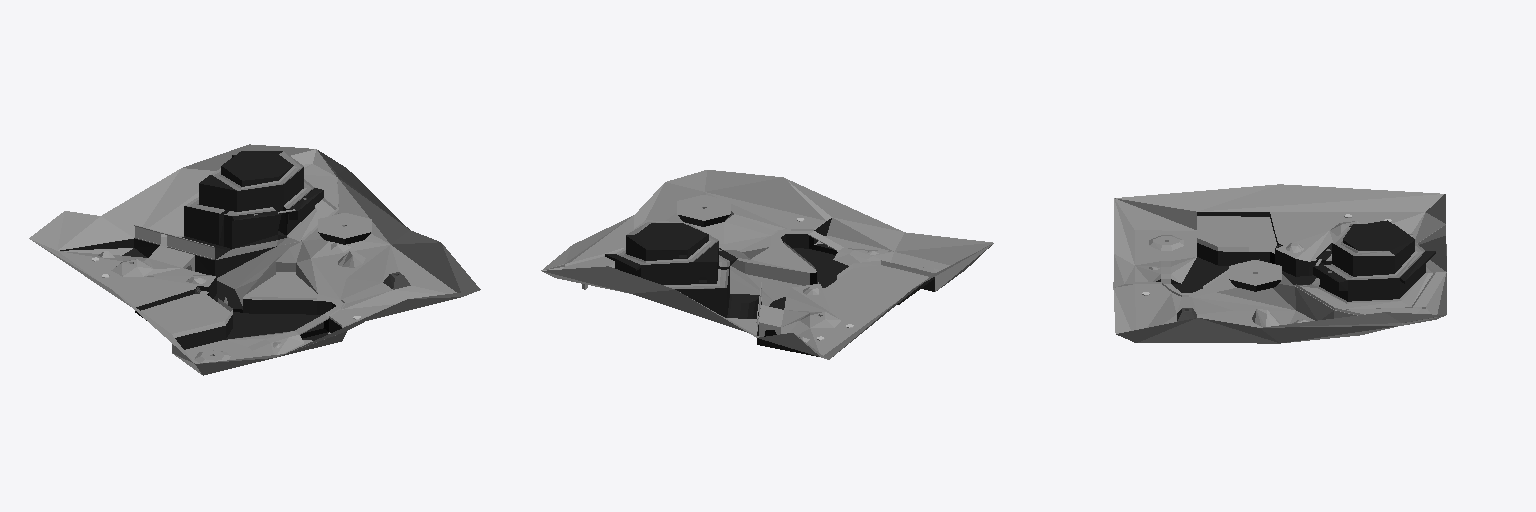
Rendered from battleFlat.obj.
3 renders of one model, left to right at view 1: azimuth 30°, elevation 25°; view 2: azimuth 150°, elevation 25°; view 3: azimuth 270°, elevation 25°, orthographic.
Bounding box in the file's own units: 93.24 × 26.53 × 93.36.